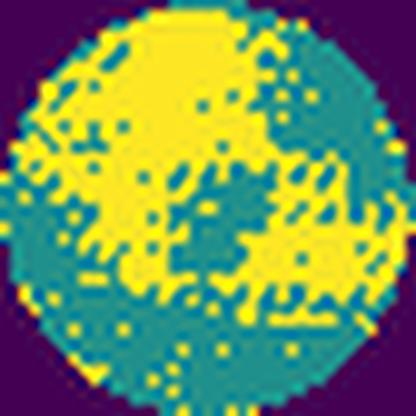Donut: (16, 5, 415, 329)
